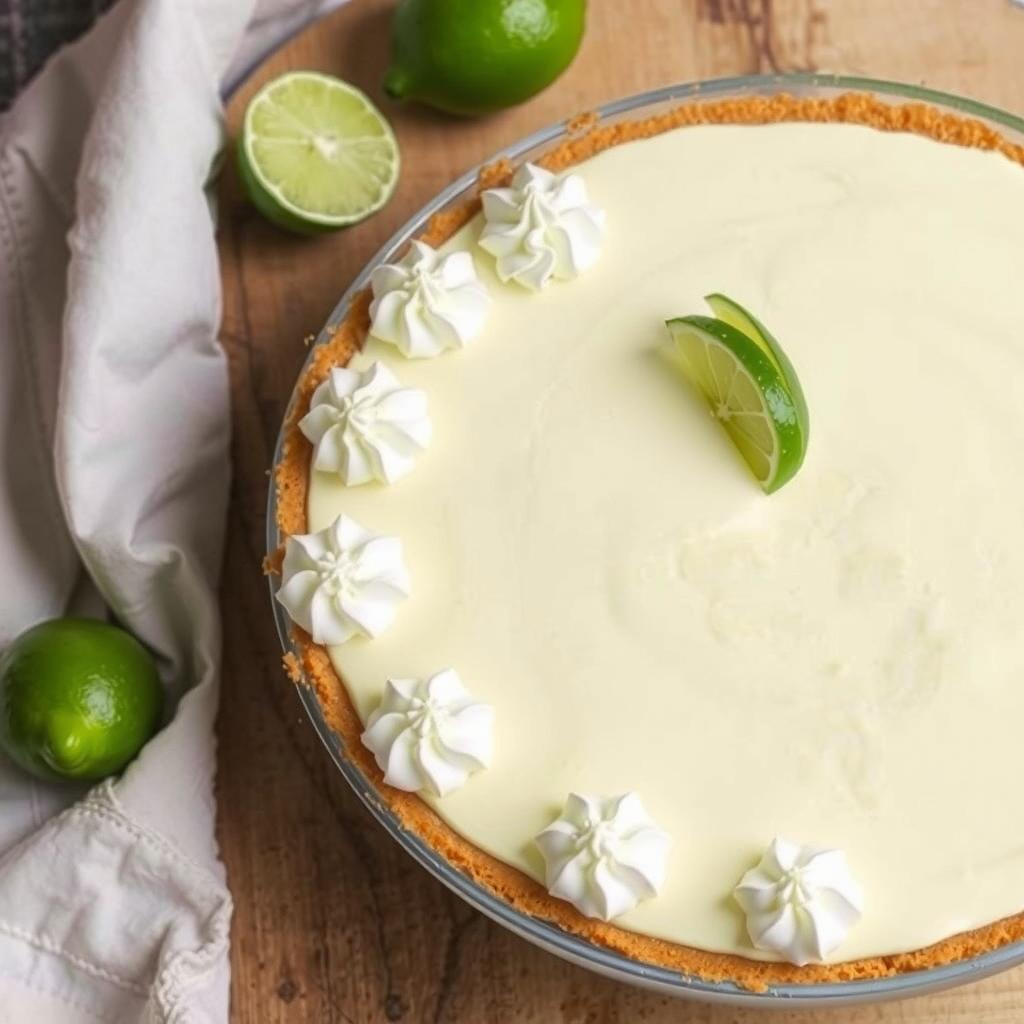pie: (264, 81, 1024, 994)
